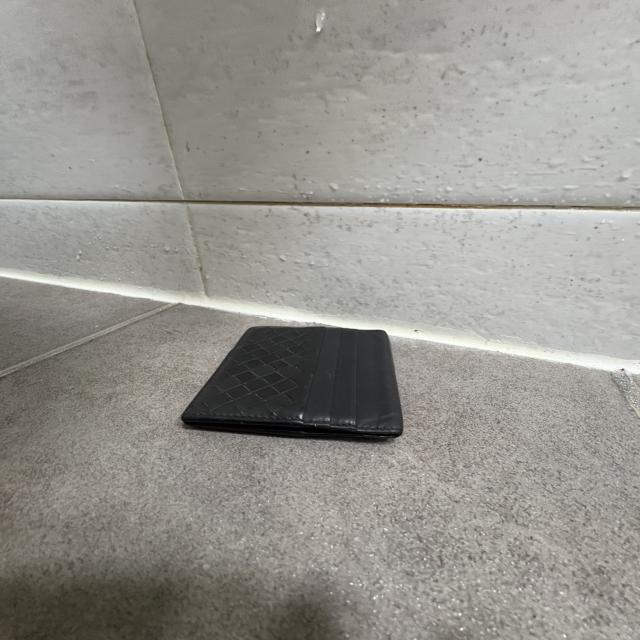wallet: (182, 326, 405, 442)
